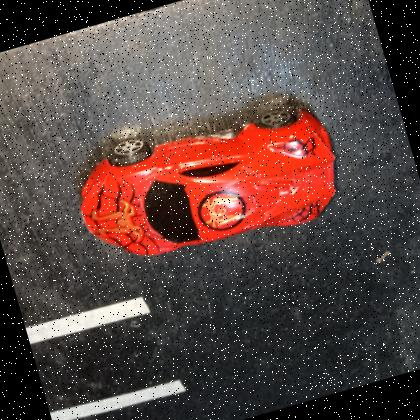Car: (64, 82, 356, 283)
